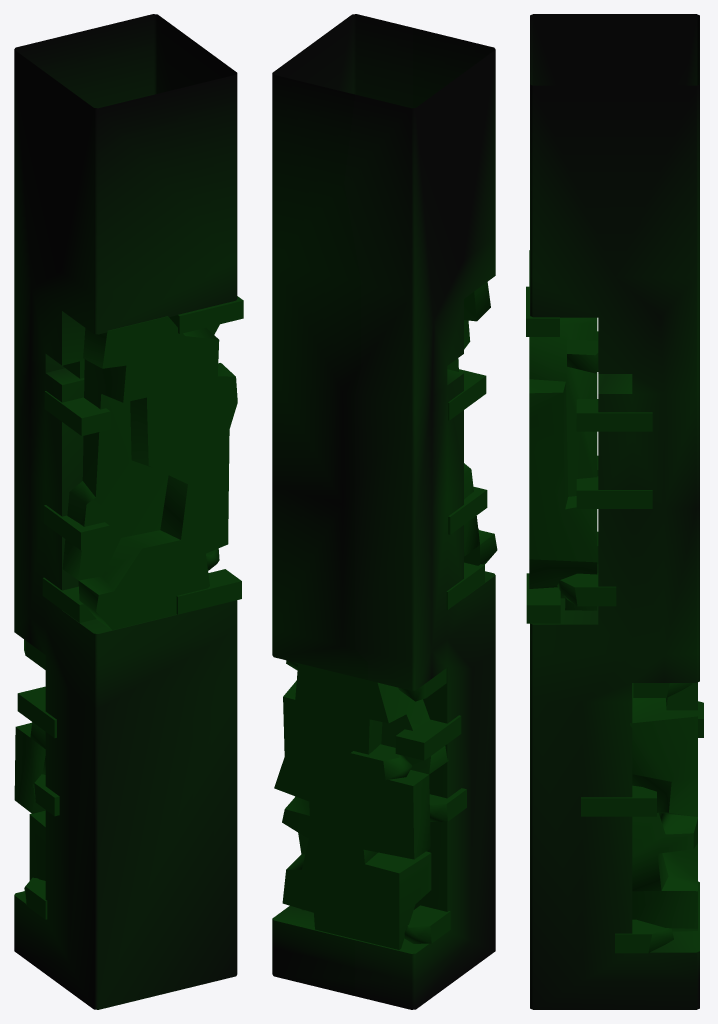
File: DBK_Brick_Pillar_D.fbx
The picture shows the model from 3 angles, left to right: view 1: azimuth 30°, elevation 25°; view 2: azimuth 150°, elevation 25°; view 3: azimuth 270°, elevation 25°; orthographic projection. The views are drawn at different scales.
Visible parts, largest first — view 1: DBK_Brick_Pillar_D; view 2: DBK_Brick_Pillar_D; view 3: DBK_Brick_Pillar_D.
Part boxes in pixels (x1,y1,x2,y2): DBK_Brick_Pillar_D: (14, 14, 243, 1009); DBK_Brick_Pillar_D: (272, 14, 497, 1009); DBK_Brick_Pillar_D: (526, 14, 703, 1009).
Bounding box in the file's own units: 52.79 × 300 × 52.32.
